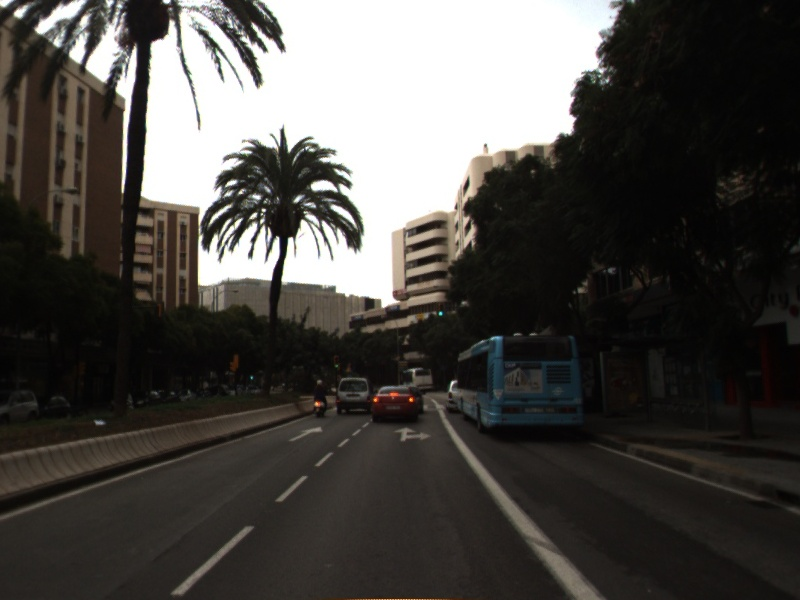STRAIGHT: (286, 424, 325, 443)
STRAIGHT_RIGHT: (391, 424, 434, 443)
